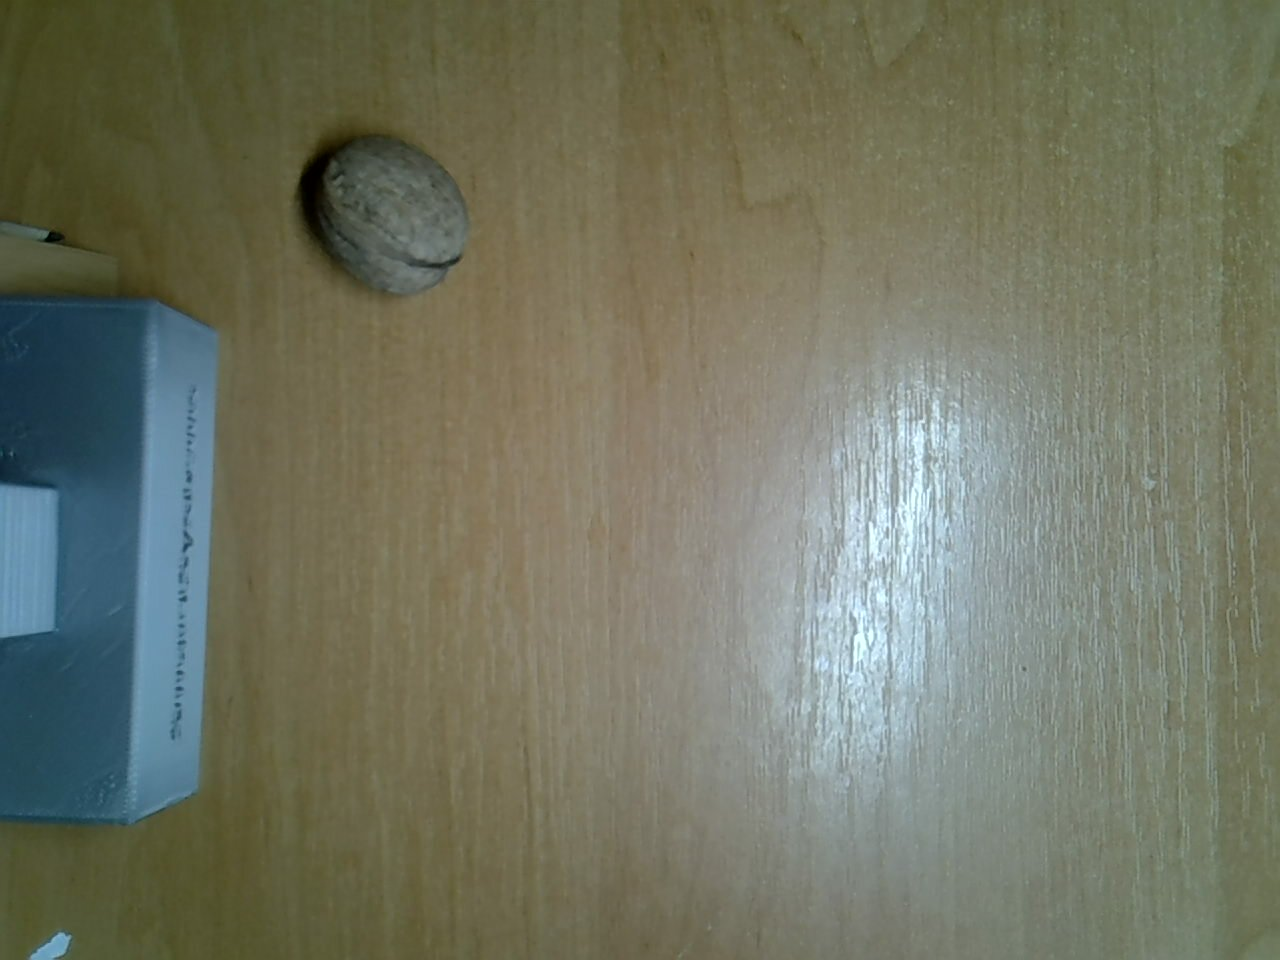nut: (303, 125, 478, 302)
